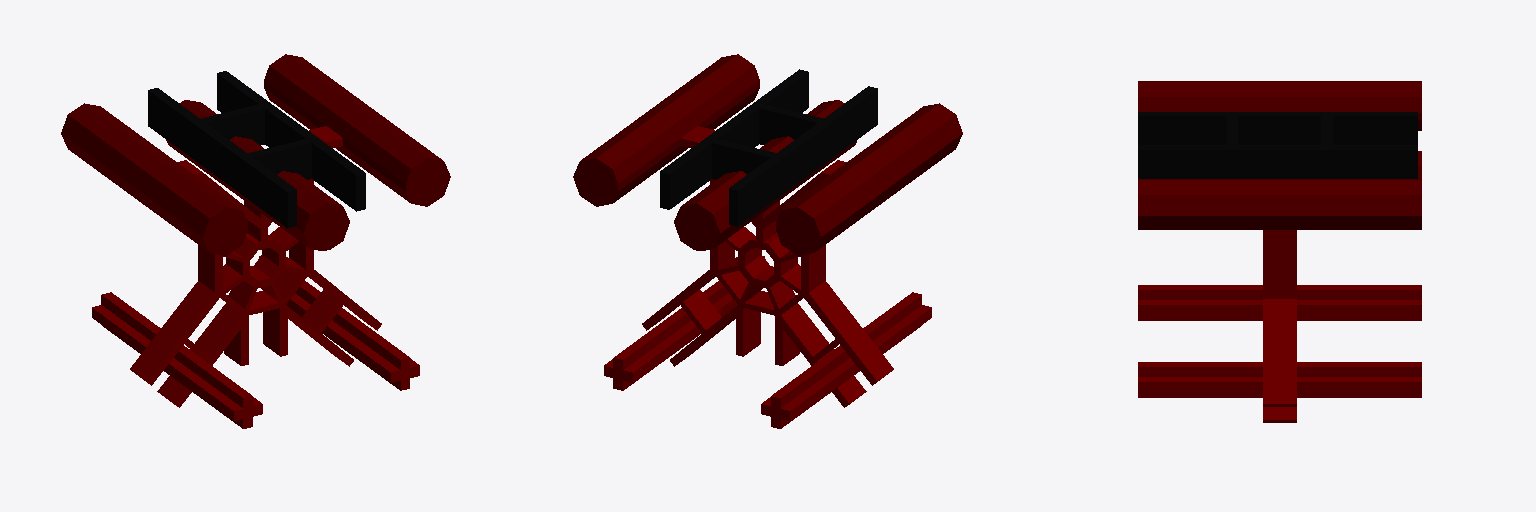
The model's file is knex_lift.obj.
3 renders of one model, left to right at view 1: azimuth 30°, elevation 25°; view 2: azimuth 150°, elevation 25°; view 3: azimuth 270°, elevation 25°, orthographic.
Bounding box in the file's own units: 1.67 × 1.61 × 1.65.